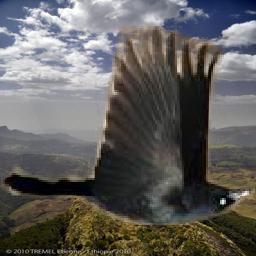Crow: (1, 26, 255, 228)
